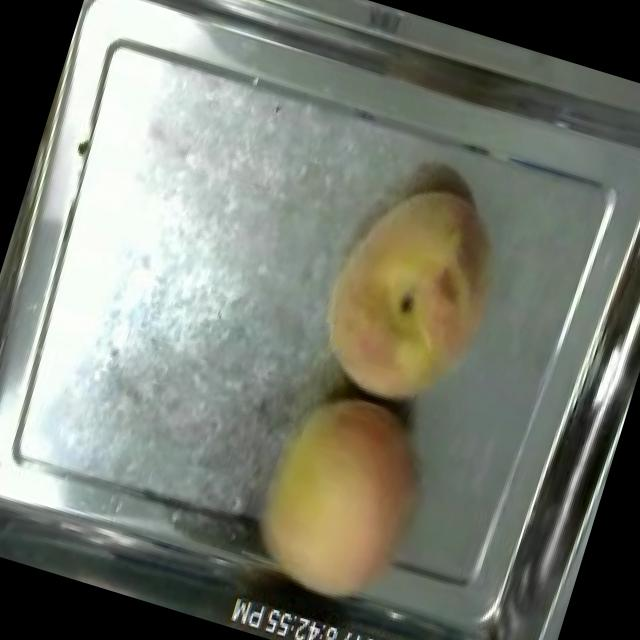Fruit: (292, 158, 529, 430), (221, 368, 454, 628)
